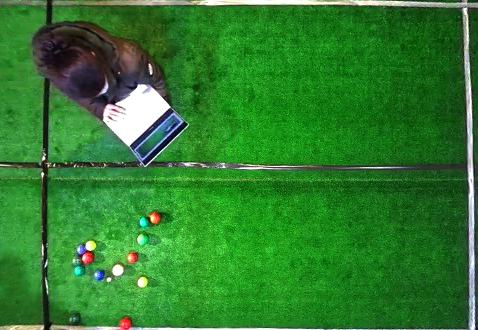blue: (77, 244, 86, 254), (94, 271, 103, 280)
green: (137, 234, 149, 245), (72, 256, 82, 266), (75, 266, 85, 275), (70, 314, 79, 324), (140, 217, 149, 226)
red: (112, 264, 124, 275), (82, 252, 94, 263), (150, 213, 161, 224), (121, 318, 131, 329), (128, 253, 138, 262)
vline: (1, 80, 50, 329), (460, 0, 477, 330), (1, 0, 52, 26)
white: (107, 277, 111, 282)
yellow: (138, 277, 148, 287), (86, 241, 96, 251)
